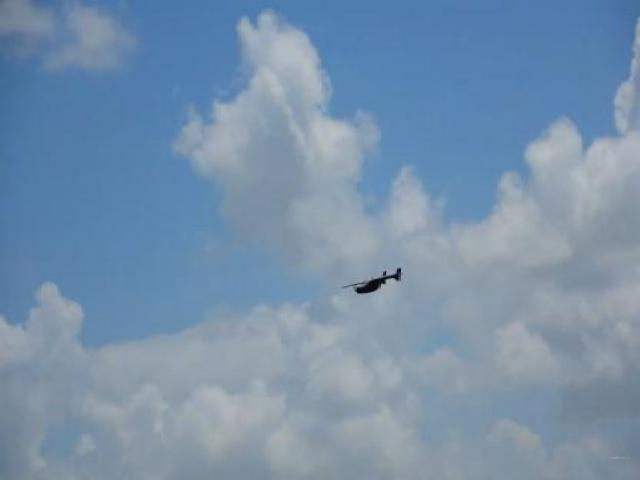uav: (340, 268, 405, 295)
